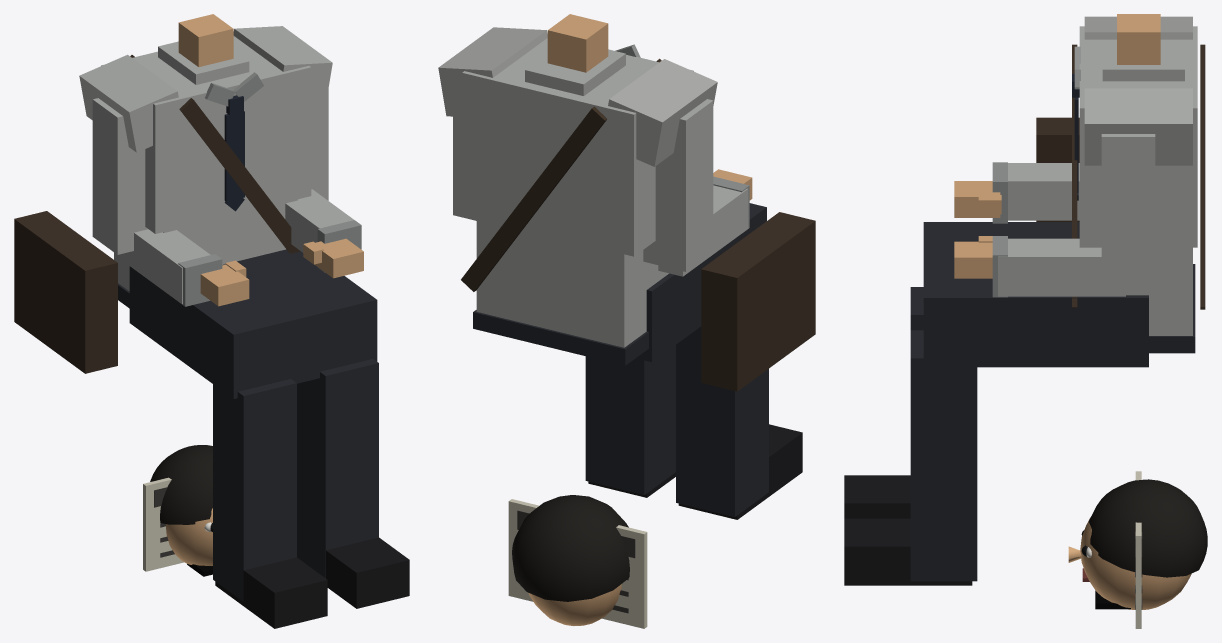
The model's file is passenger_office_seated.fbx.
The picture shows the model from 3 angles, left to right: view 1: azimuth 30°, elevation 25°; view 2: azimuth 150°, elevation 25°; view 3: azimuth 270°, elevation 25°; orthographic projection. The views are drawn at different scales.
Parts seen in each view (by area): view 1: Mesh_17, Mesh_16, Mesh_21, Mesh_18, Body_Skin, Mesh_8, Mesh_19, Mesh_0, Head_Skin, Mesh_20; view 2: Mesh_16, Mesh_17, Mesh_21, Mesh_8, Mesh_0, Body_Skin, Mesh_18, Head_Skin, Mesh_19; view 3: Mesh_16, Mesh_17, Mesh_8, Mesh_18, Body_Skin, Mesh_21, Head_Skin, Mesh_19, Mesh_0, Mesh_20.
Part boxes in pixels (x1,y1,x2,y2): Mesh_17: [118, 249, 378, 601]; Mesh_16: [79, 26, 353, 304]; Mesh_21: [14, 55, 300, 373]; Mesh_18: [215, 537, 409, 628]; Body_Skin: [178, 14, 363, 306]; Mesh_8: [150, 445, 212, 524]; Mesh_19: [178, 72, 361, 306]; Mesh_0: [143, 477, 183, 571]; Head_Skin: [166, 508, 212, 565]; Mesh_20: [224, 95, 244, 211]; Mesh_16: [438, 27, 748, 347]; Mesh_17: [473, 203, 768, 516]; Mesh_21: [461, 58, 815, 391]; Mesh_8: [512, 495, 629, 601]; Mesh_0: [508, 499, 647, 628]; Body_Skin: [547, 14, 752, 200]; Mesh_18: [588, 424, 802, 519]; Head_Skin: [528, 584, 621, 625]; Mesh_19: [615, 44, 749, 228]; Mesh_16: [998, 16, 1197, 335]; Mesh_17: [910, 222, 1195, 581]; Mesh_8: [1089, 479, 1207, 577]; Mesh_18: [844, 475, 972, 585]; Body_Skin: [954, 14, 1160, 278]; Mesh_21: [1036, 44, 1205, 309]; Head_Skin: [1068, 517, 1191, 609]; Mesh_19: [992, 46, 1080, 297]; Mesh_0: [1135, 471, 1141, 628]; Mesh_20: [1072, 74, 1079, 200].
Size of the model in its own units: 0.6675 by 1.26 by 0.7098.
